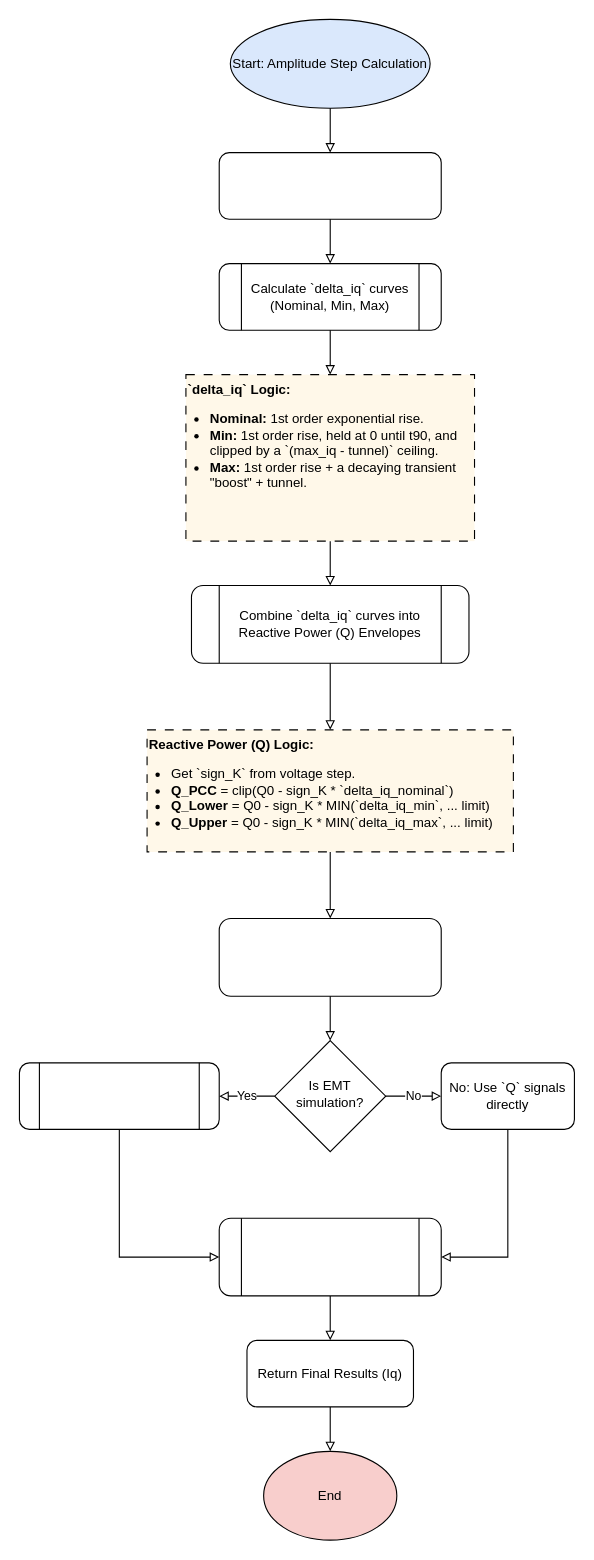
Some shapes in this 594 by 1560 pixel diagram are drawn without their labels. Each missing label, with the box of its shape:
Convert Final `Q` signals to `Iq` signals (Iq = -Q): (218, 1217, 441, 1296)
Inputs: D, H, Xeff, time_array, event_time: (218, 152, 441, 219)
Receive Final `Q` Envelopes (PCC, Upper, Lower): (218, 917, 441, 996)
Yes: Apply Final Time Delay to `Q` signals: (18, 1062, 219, 1129)
